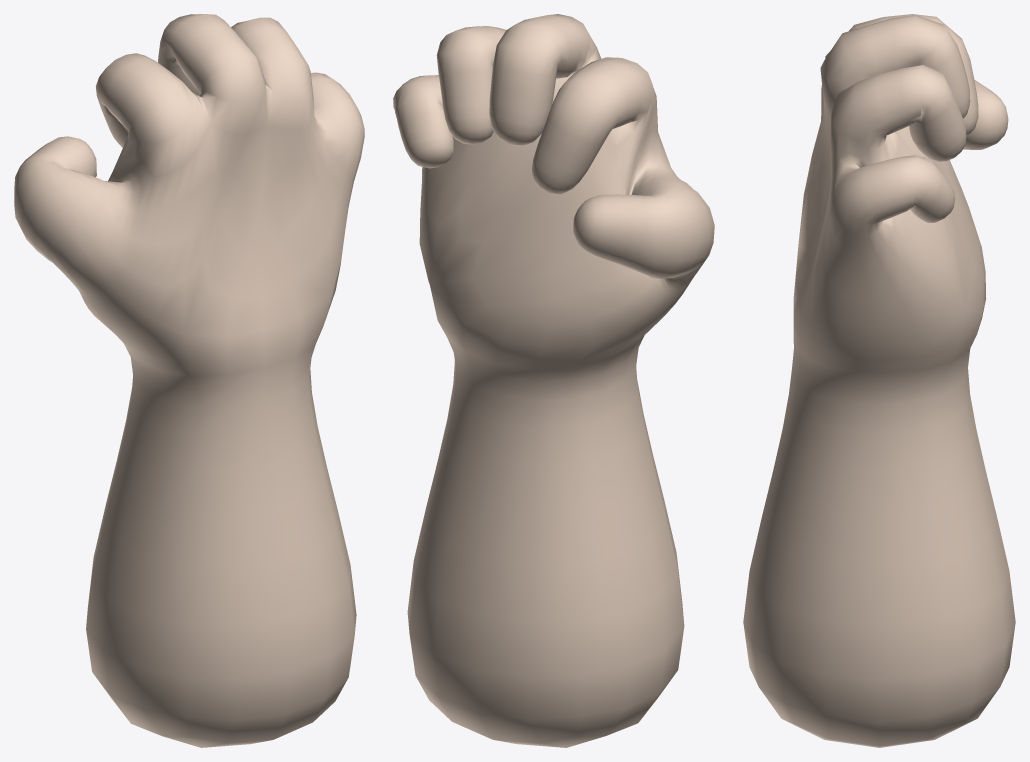
Rendered from Hand-Rock.fbx.
The picture shows the model from 3 angles, left to right: view 1: azimuth 30°, elevation 25°; view 2: azimuth 150°, elevation 25°; view 3: azimuth 270°, elevation 25°; orthographic projection. The views are drawn at different scales.
Parts seen in each view (by area): view 1: hand2.001; view 2: hand2.001; view 3: hand2.001.
Part boxes in pixels (left/top/right/bottom): hand2.001: left=14, top=14, right=364, bottom=747; hand2.001: left=393, top=14, right=714, bottom=747; hand2.001: left=743, top=14, right=1015, bottom=747.
Bounding box in the file's own units: 61.25 × 132 × 46.07.
